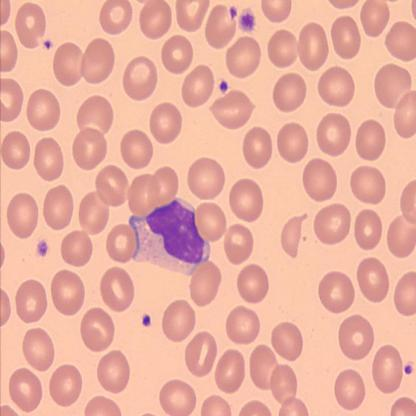Atypical lymphocyte: (126, 194, 212, 278)
